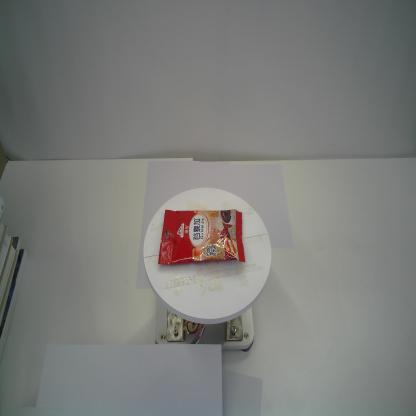Instant Drink: (156, 207, 246, 266)
